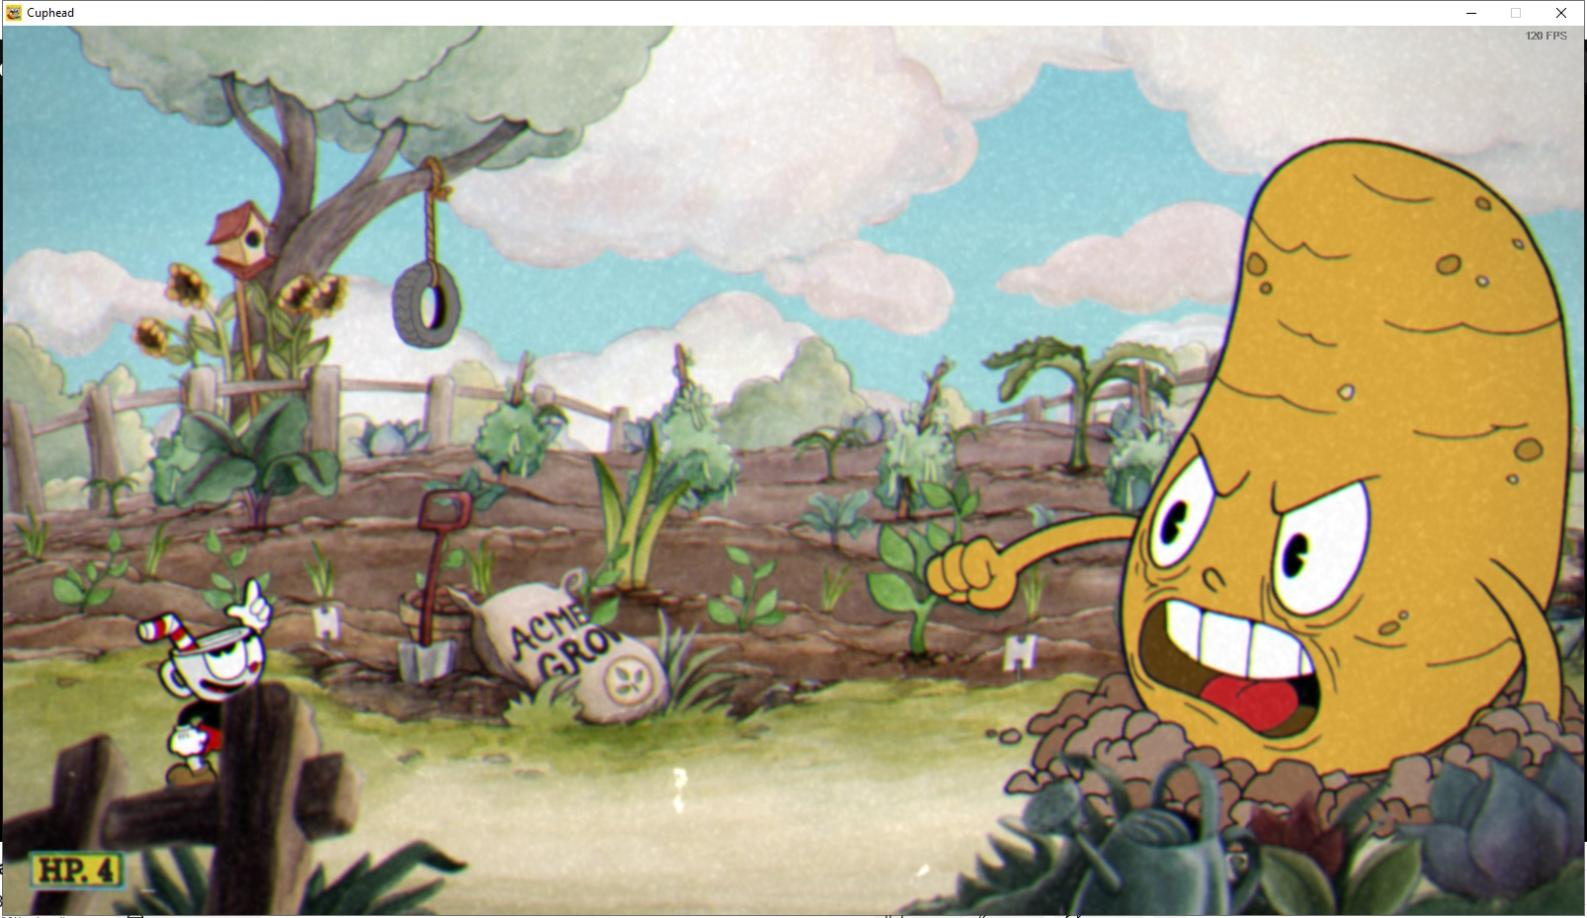hp4: (91, 849, 126, 888)
player: (133, 582, 284, 789)
potato_boss: (1109, 139, 1568, 826)
